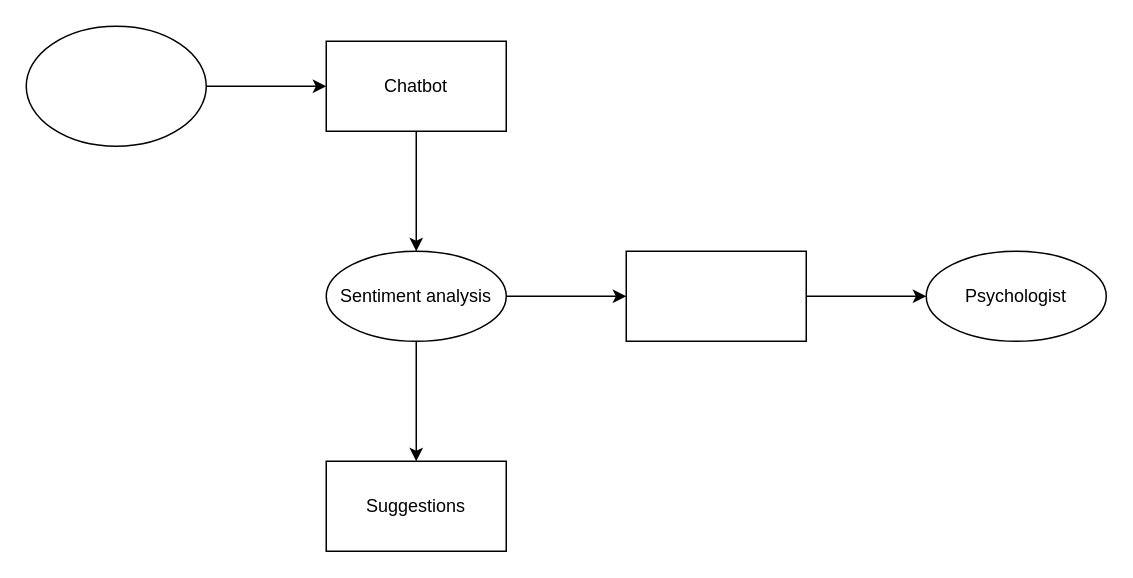
The diagram is 1133 pixels wide and 578 high, and some of its shapes have lost their labels. The shapes that lost their labels are listed below. From the top down, each one's centre as x and y in pixels, then its label:
At (115,85): "User input (Conversations with the chatbot)".
At (715,295): "Report".
